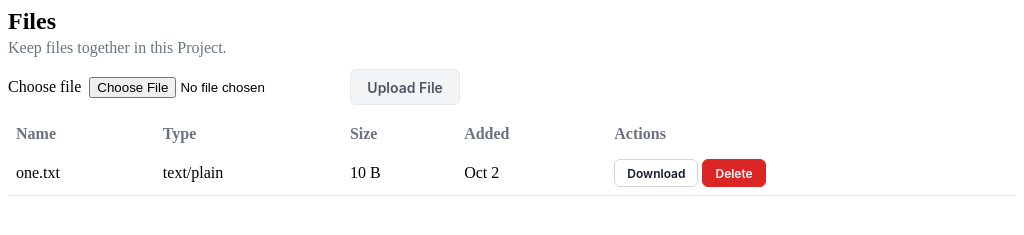
Scenario: ProjectFilesPanel › shows download failure on the row and leaves the file available for retry
Click the button with aria-label "Download one.txt" at [656, 173], box [614, 159, 698, 187]
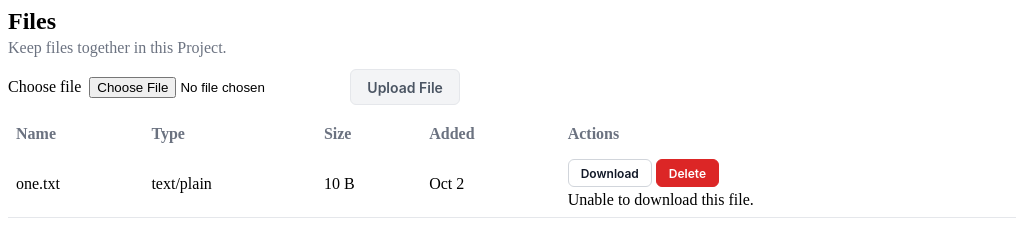
Check: the button with aria-label "Download one.txt" is shown, box [568, 159, 652, 187]
Check: the message reads "Unable to download this file.", box [568, 191, 754, 208]
